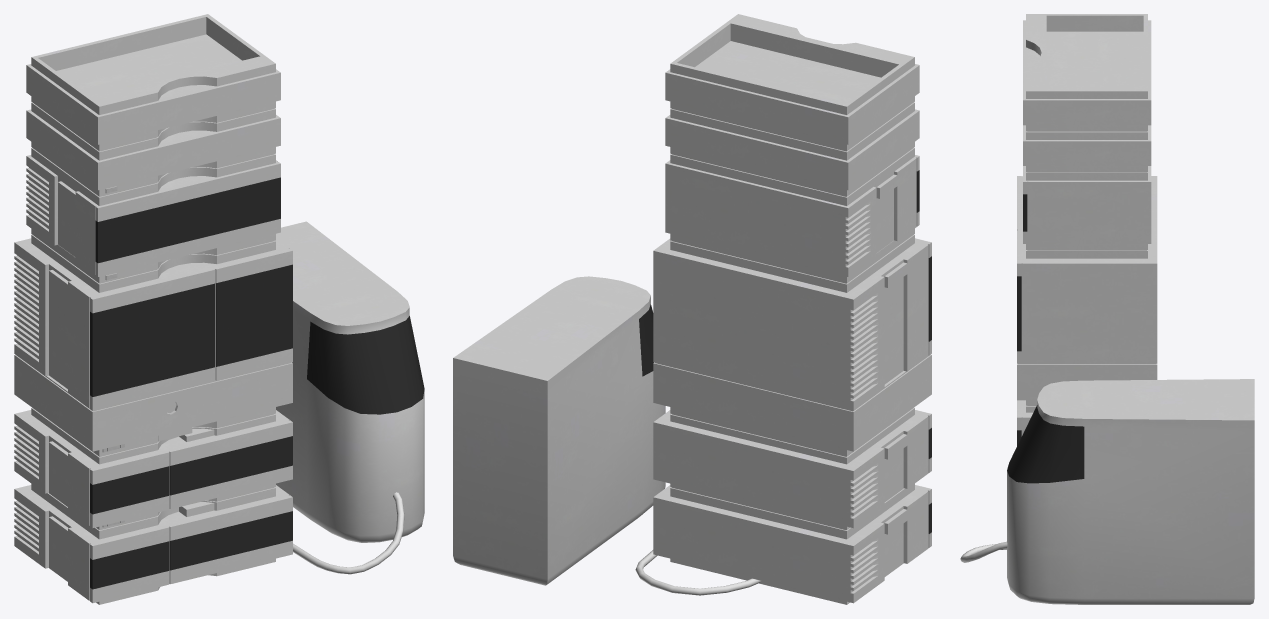
File: SM_液相色谱仪.fbx
The picture shows the model from 3 angles, left to right: view 1: azimuth 30°, elevation 25°; view 2: azimuth 150°, elevation 25°; view 3: azimuth 270°, elevation 25°; orthographic projection. The views are drawn at different scales.
Parts seen in each view (by area): view 1: SM_液相色谱仪; view 2: SM_液相色谱仪; view 3: SM_液相色谱仪.
Boxes of the visible parts, x1,y1,x2,y2 form: SM_液相色谱仪: [14, 14, 424, 604]; SM_液相色谱仪: [453, 14, 931, 604]; SM_液相色谱仪: [960, 14, 1254, 604].
Bounding box in the file's own units: 0.8181 × 1.12 × 0.6702.
